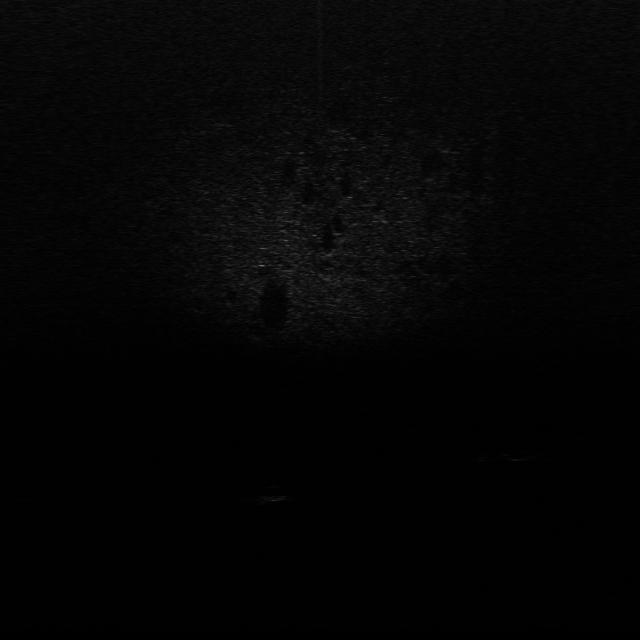ball: (257, 483, 293, 504)
human body: (477, 446, 551, 464)
